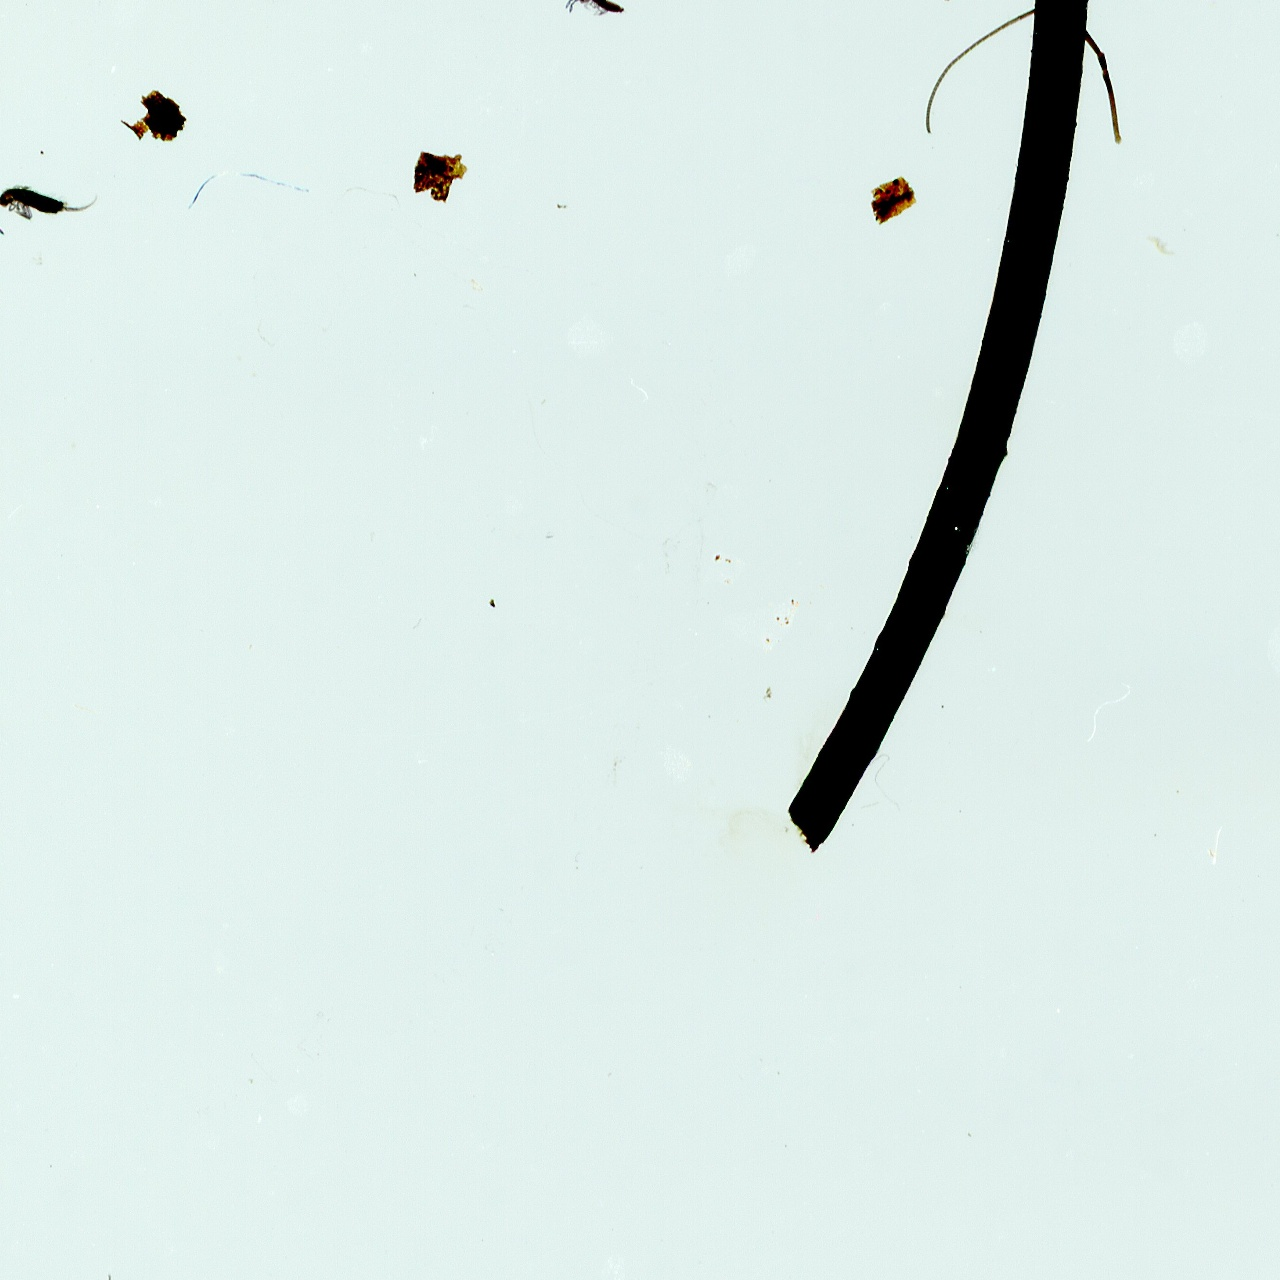arthropod: (0, 175, 108, 240), (558, 0, 639, 28)
